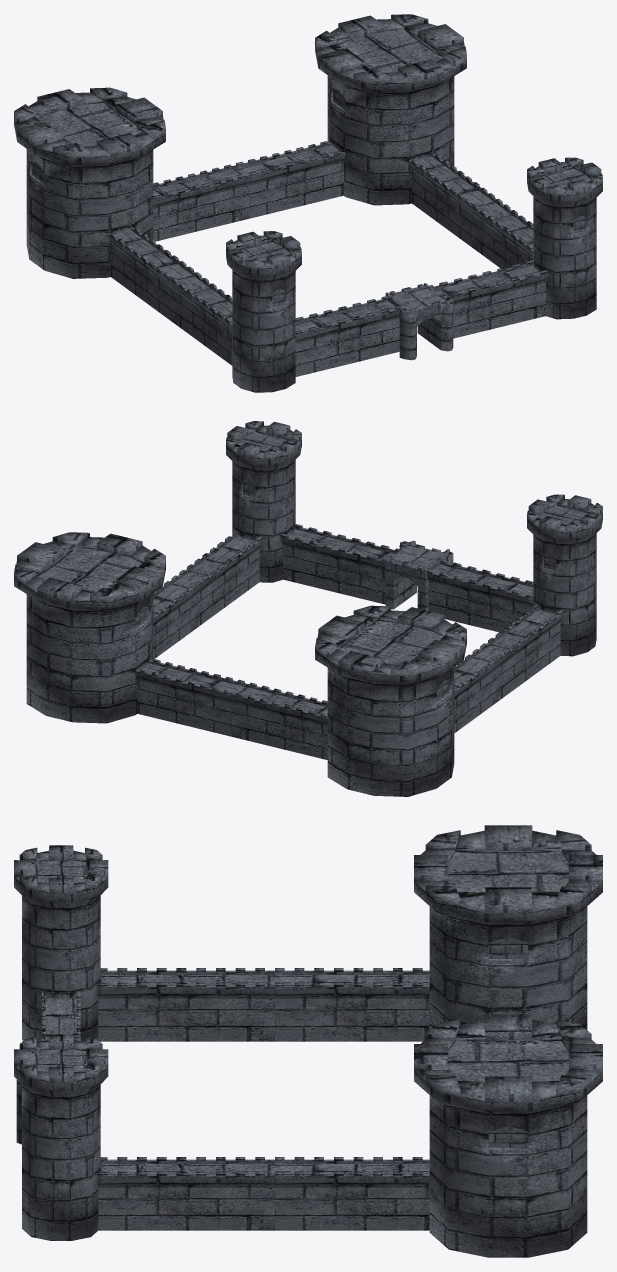
The model's file is Castle.FBX.
The picture shows the model from 3 angles, top to bottom: view 1: azimuth 30°, elevation 25°; view 2: azimuth 150°, elevation 25°; view 3: azimuth 270°, elevation 25°; orthographic projection. The views are drawn at different scales.
Parts seen in each view (by area): view 1: Cube; view 2: Cube; view 3: Cube.
Boxes of the visible parts, x1=… form: Cube: x1=14, y1=14, x2=602, y2=392; Cube: x1=14, y1=421, x2=602, y2=796; Cube: x1=14, y1=825, x2=602, y2=1257.
Bounding box in the file's own units: 10369 × 9599 × 3062.
